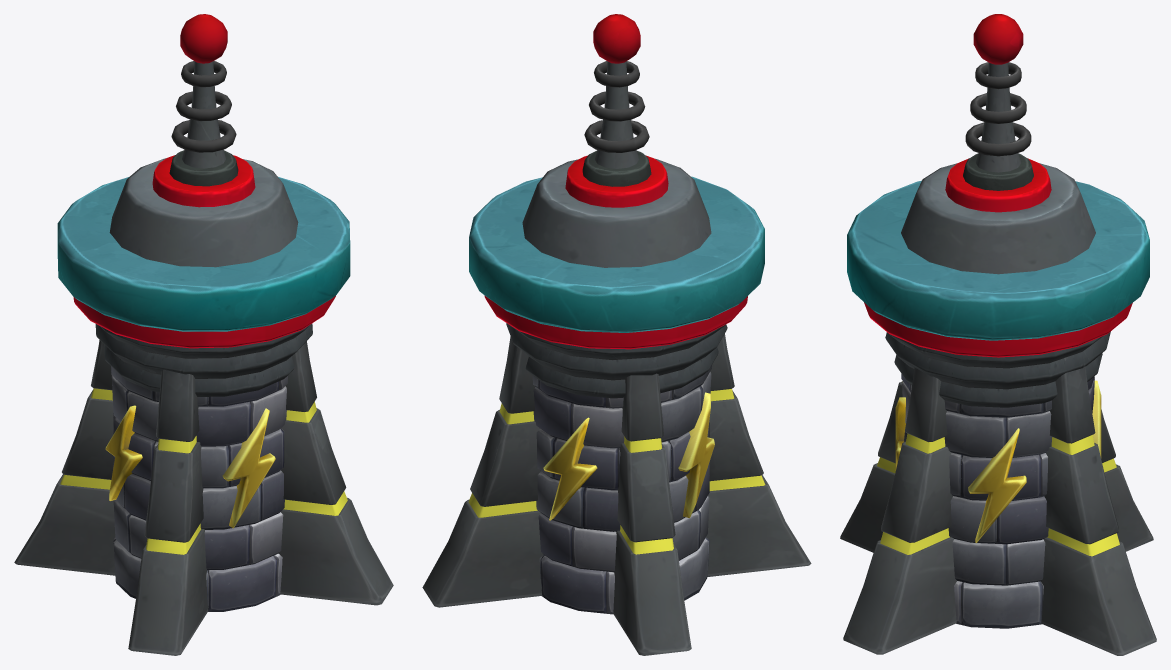
File: SM_TowerDefense_Electric_Lv2.fbx
3 renders of one model, left to right at view 1: azimuth 30°, elevation 25°; view 2: azimuth 150°, elevation 25°; view 3: azimuth 270°, elevation 25°, orthographic. The views are drawn at different scales.
Parts seen in each view (by area): view 1: SM_TowerDefense_Electric_Lv2; view 2: SM_TowerDefense_Electric_Lv2; view 3: SM_TowerDefense_Electric_Lv2.
Part boxes in pixels (x1,y1,x2,y2): SM_TowerDefense_Electric_Lv2: [14, 14, 393, 655]; SM_TowerDefense_Electric_Lv2: [422, 14, 811, 655]; SM_TowerDefense_Electric_Lv2: [840, 14, 1156, 655].
Size of the model in its own units: 710 by 1420 by 710.
